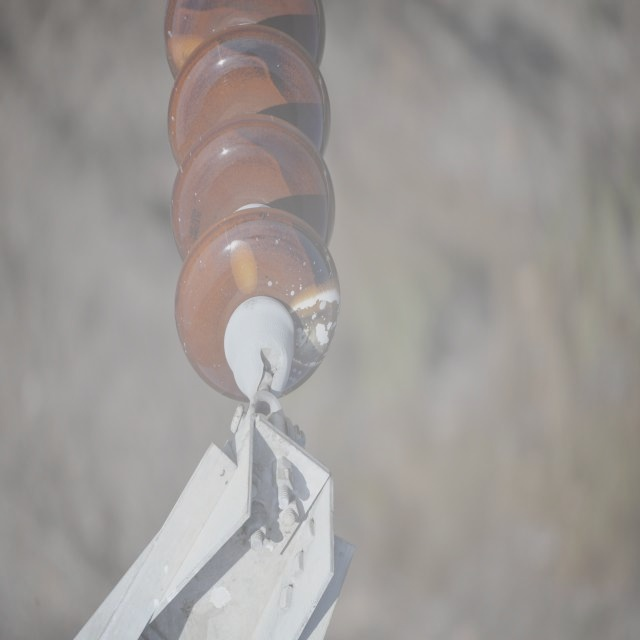insulator: (164, 0, 339, 400)
